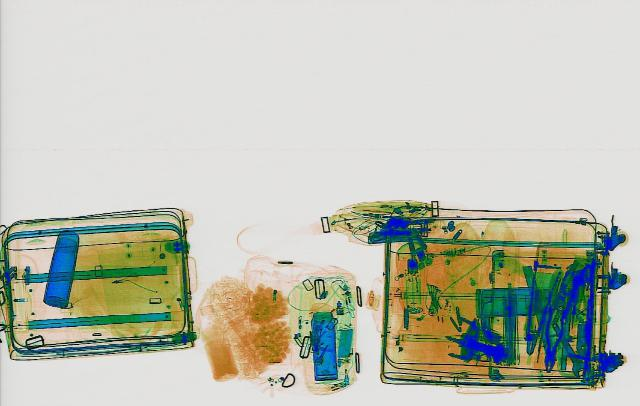Pliers: (536, 289, 570, 370), (517, 300, 549, 353)
